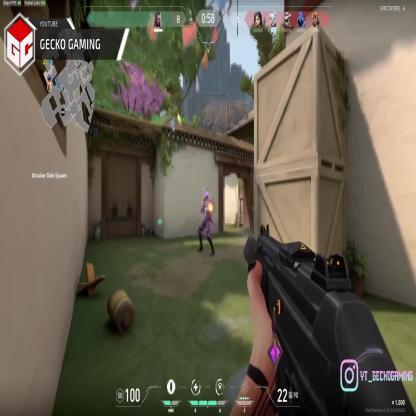enemy: (197, 190, 216, 256)
enemy_head: (204, 190, 209, 202)
